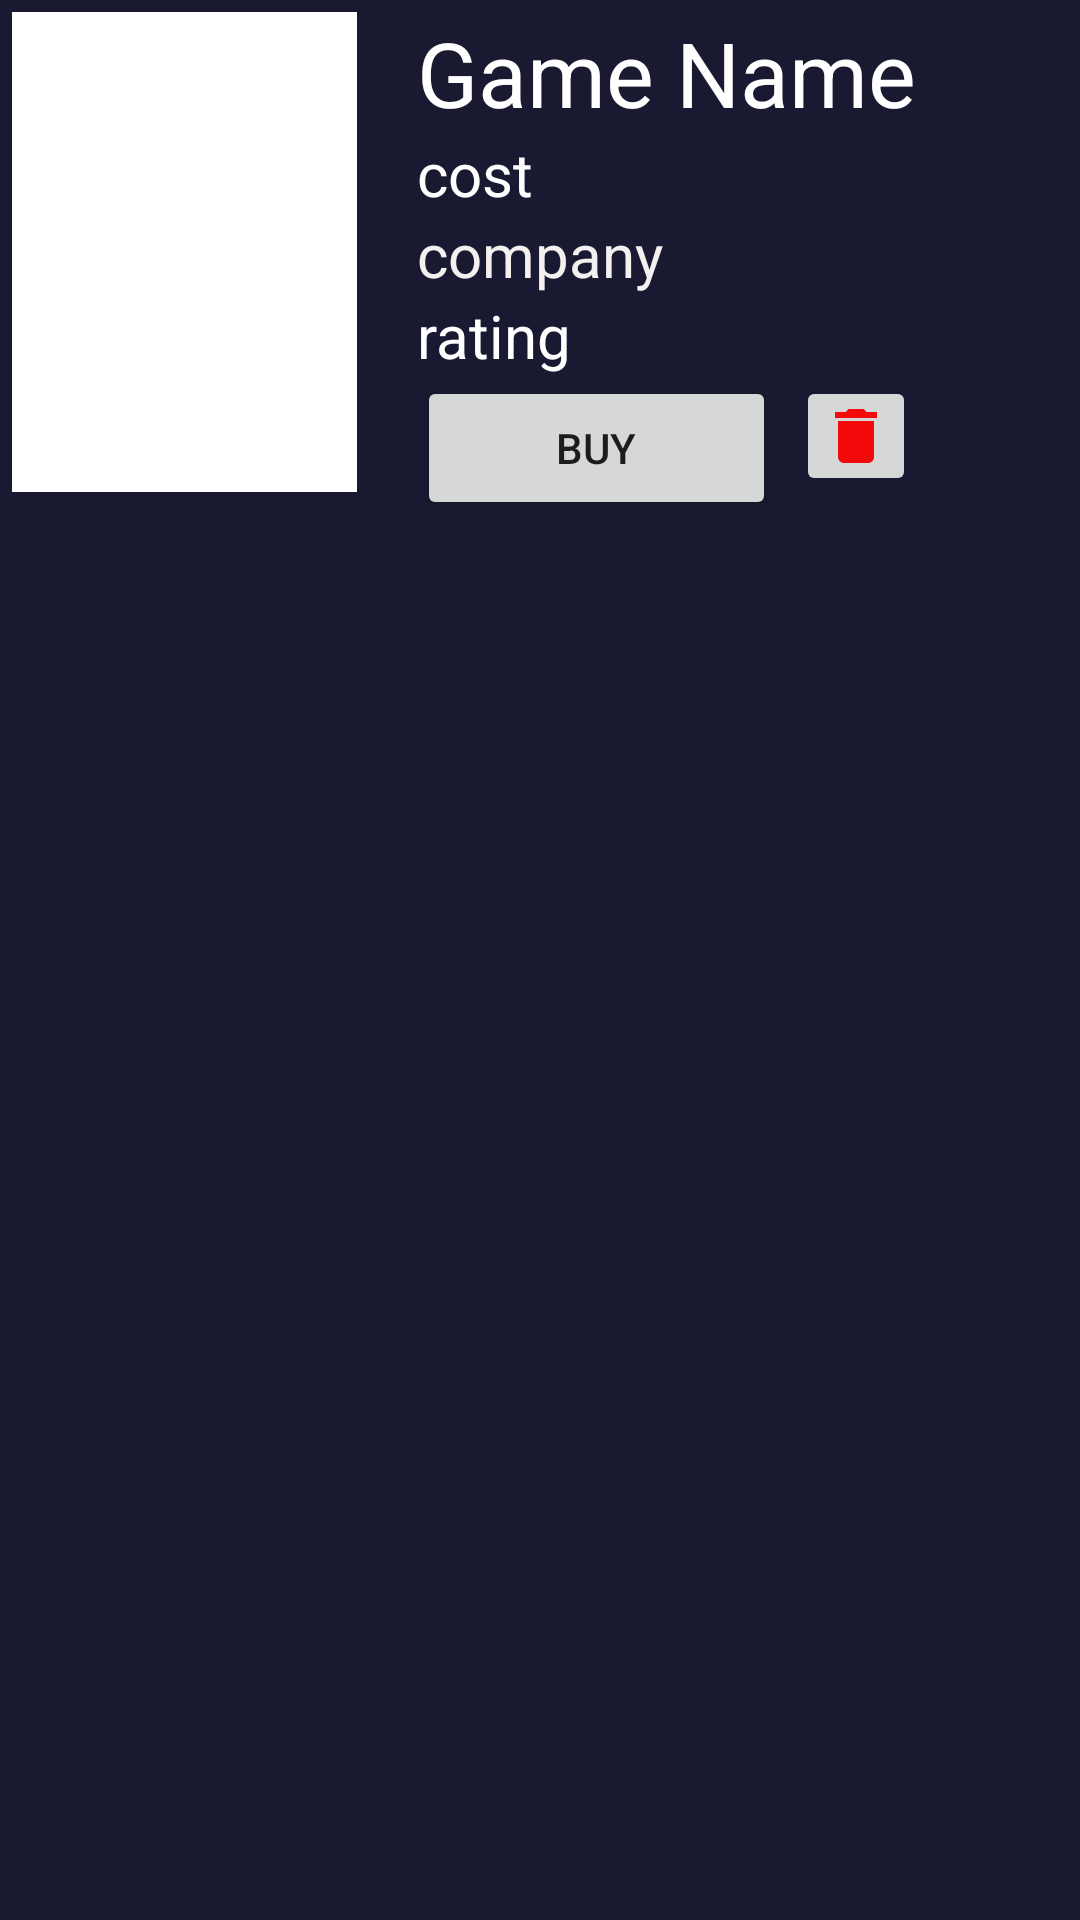

Named icons in this screenshot (1080px×1920px) and their centers, [x,y]:
delete: [856,436]
